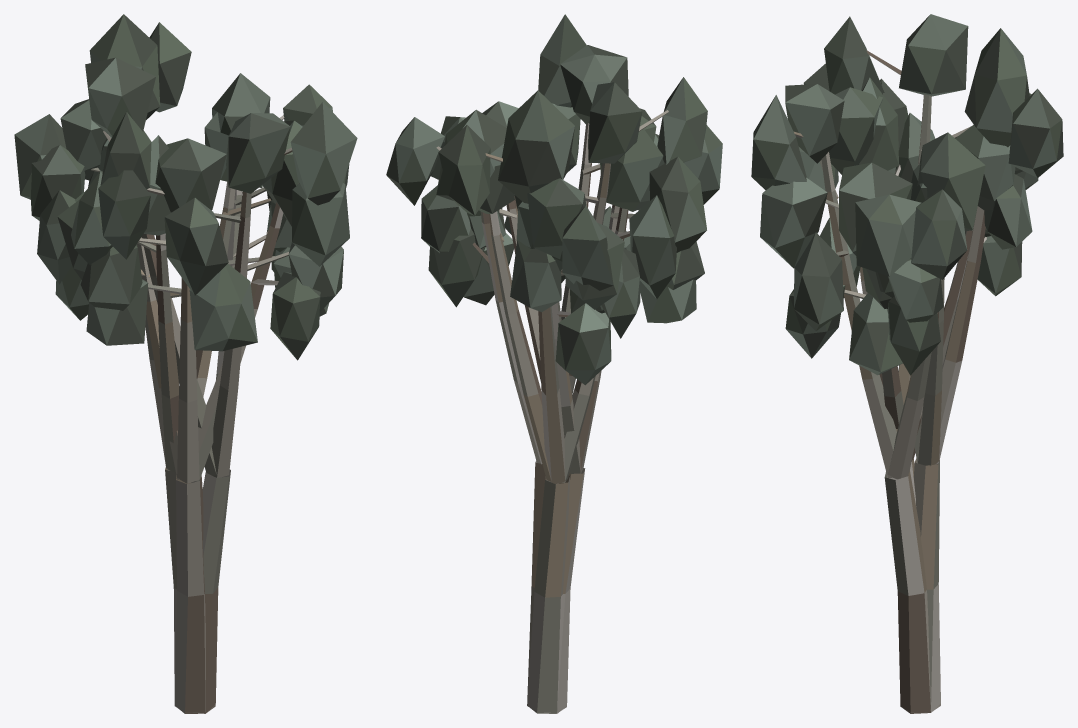
Rendered from eucalyptus.glb.
3 views of the same model, side by side, from view 1: azimuth 30°, elevation 25°; view 2: azimuth 150°, elevation 25°; view 3: azimuth 270°, elevation 25° (orthographic). The views are drawn at different scales.
Visible parts, largest first — view 1: eucalyptus_v2_LOD0, eucalyptus_v0_LOD0, eucalyptus_v1_LOD0; view 2: eucalyptus_v1_LOD0, eucalyptus_v0_LOD0, eucalyptus_v2_LOD0; view 3: eucalyptus_v0_LOD0, eucalyptus_v1_LOD0, eucalyptus_v2_LOD0.
Boxes of the visible parts, left/top/right/bottom form: eucalyptus_v2_LOD0: left=30, top=120, right=349, bottom=713; eucalyptus_v0_LOD0: left=60, top=57, right=357, bottom=713; eucalyptus_v1_LOD0: left=14, top=14, right=349, bottom=713; eucalyptus_v1_LOD0: left=431, top=90, right=706, bottom=713; eucalyptus_v0_LOD0: left=386, top=14, right=707, bottom=711; eucalyptus_v2_LOD0: left=421, top=101, right=722, bottom=713; eucalyptus_v0_LOD0: left=751, top=14, right=1032, bottom=713; eucalyptus_v1_LOD0: left=820, top=28, right=1063, bottom=712; eucalyptus_v2_LOD0: left=760, top=63, right=1038, bottom=712.
Size of what is drawn, in the model's own units: 10.27 by 22.34 by 9.52.
